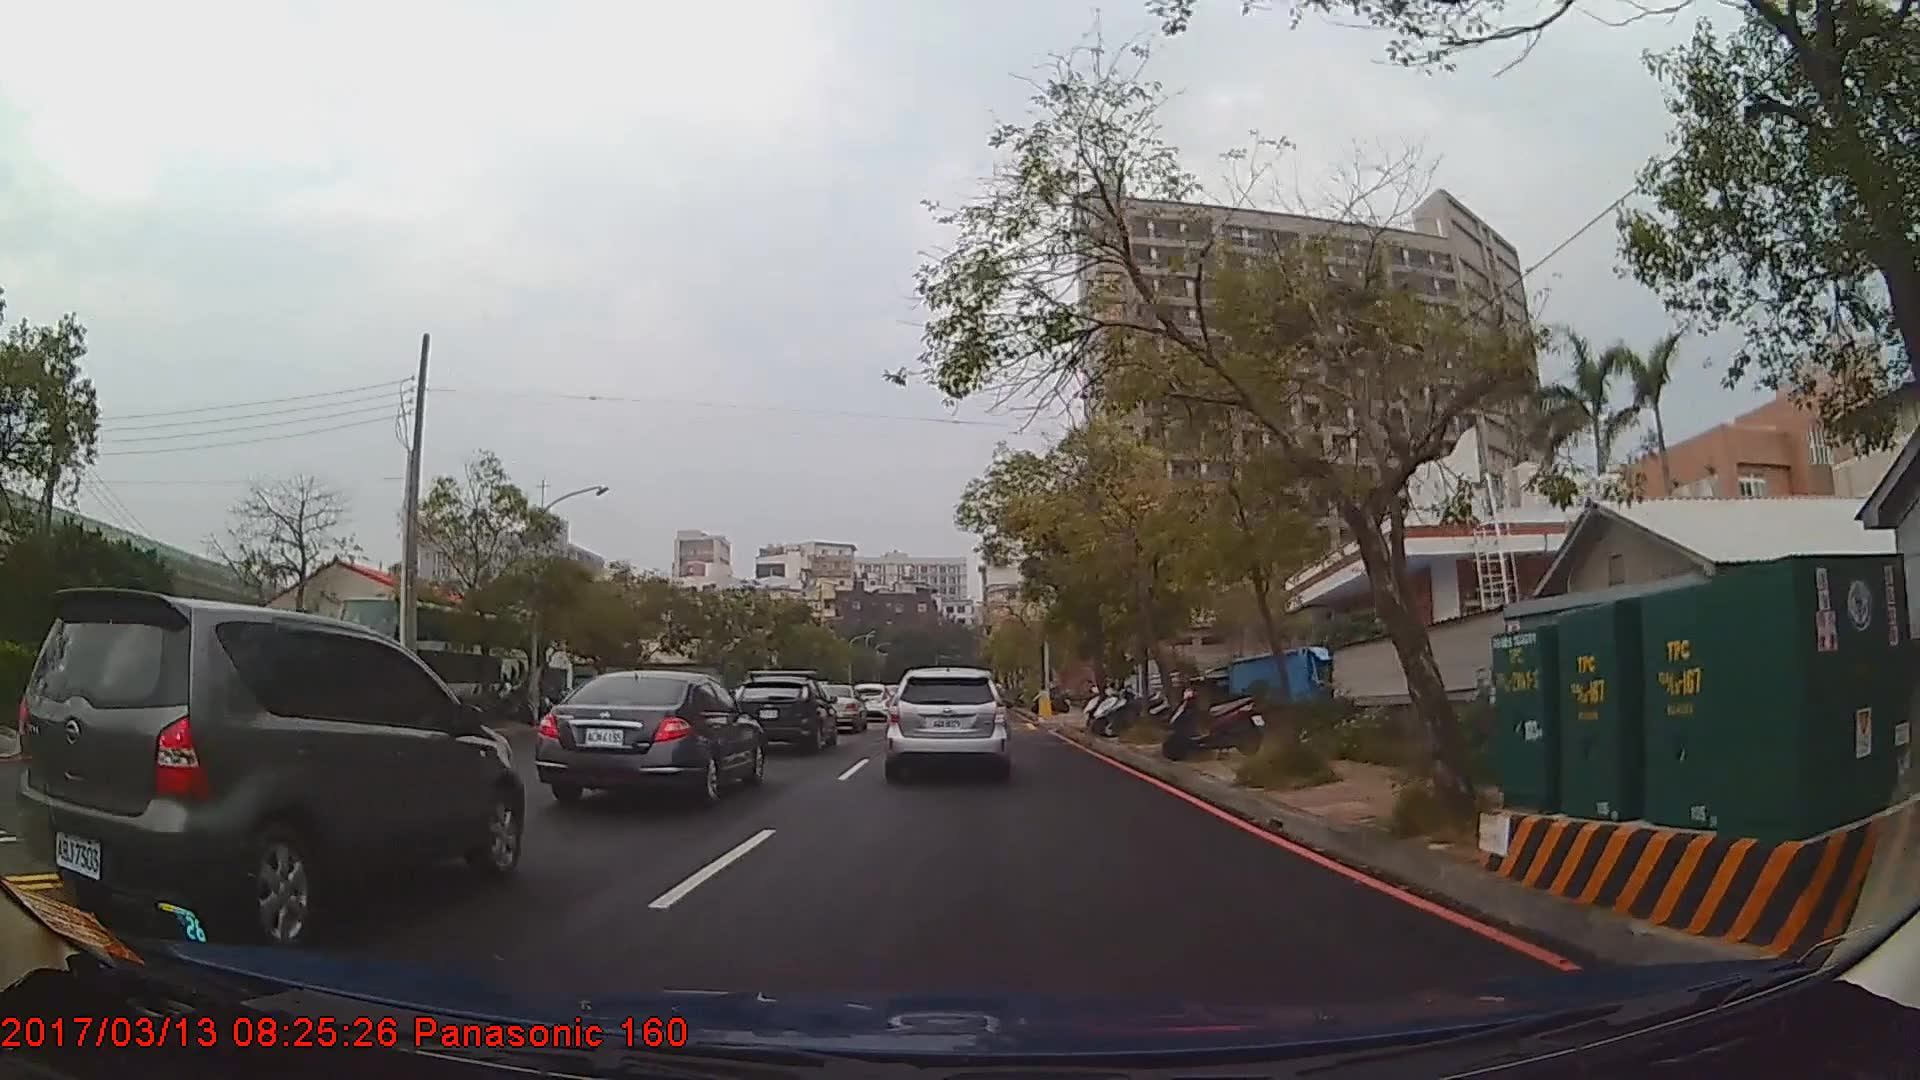vehicle: (18, 585, 524, 940), (534, 669, 765, 810), (332, 595, 530, 712), (884, 665, 1011, 781), (731, 670, 836, 752), (811, 682, 866, 733), (847, 680, 891, 721)
